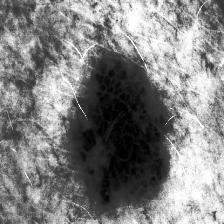Benign Marking or Mole: (75, 58, 167, 203)
